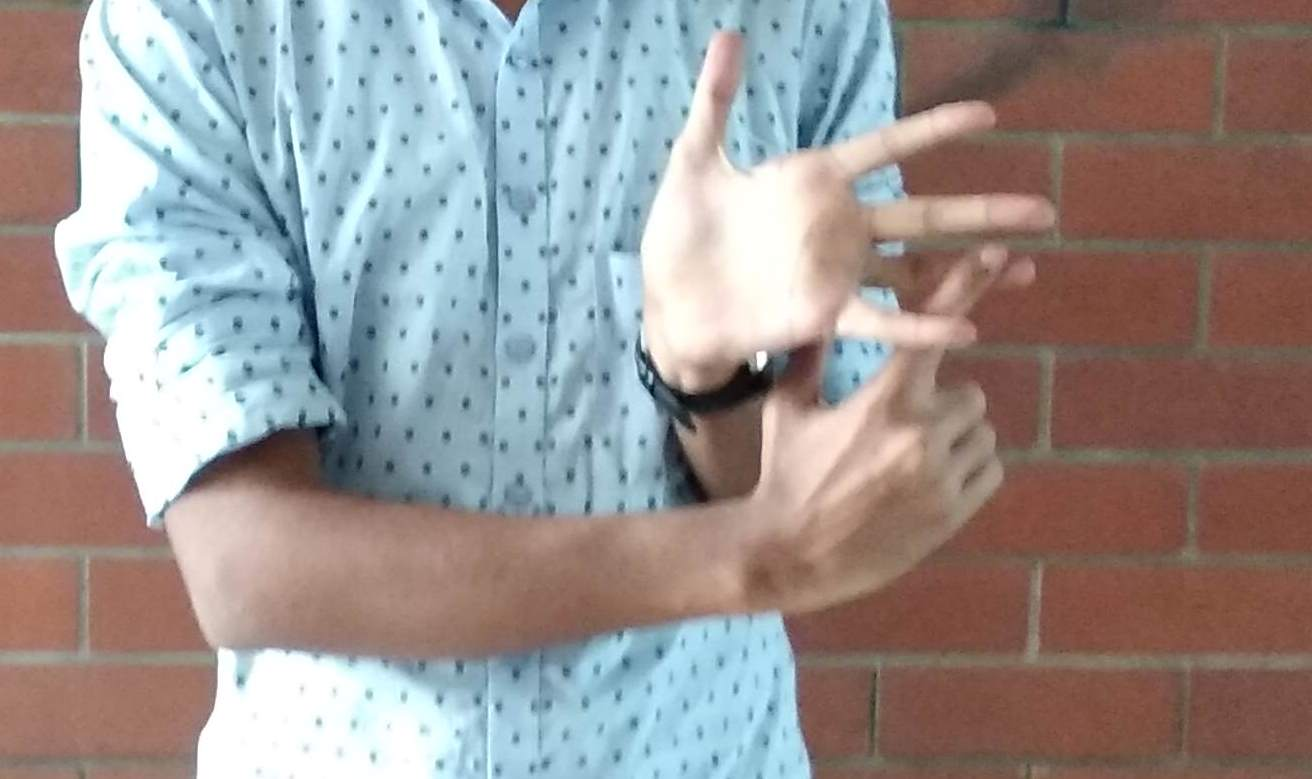e: (682, 44, 1069, 458)
